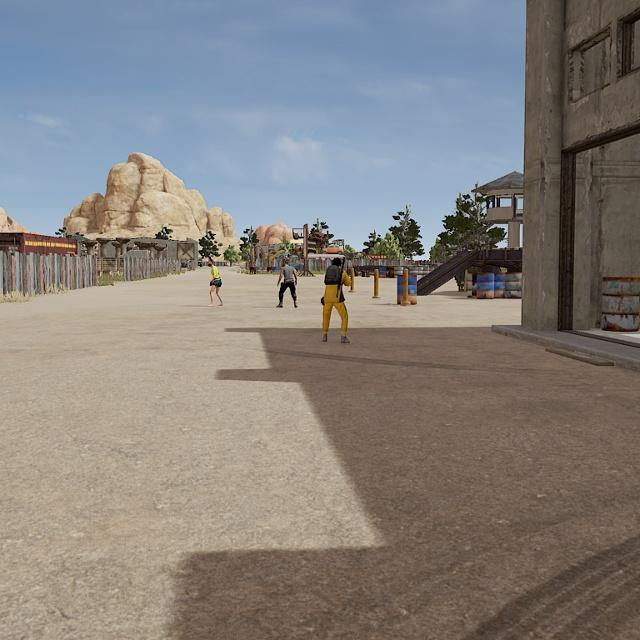head: (330, 256, 344, 269), (283, 258, 290, 267), (207, 259, 214, 267)
people: (317, 254, 355, 345), (276, 257, 299, 310), (205, 258, 225, 308)
